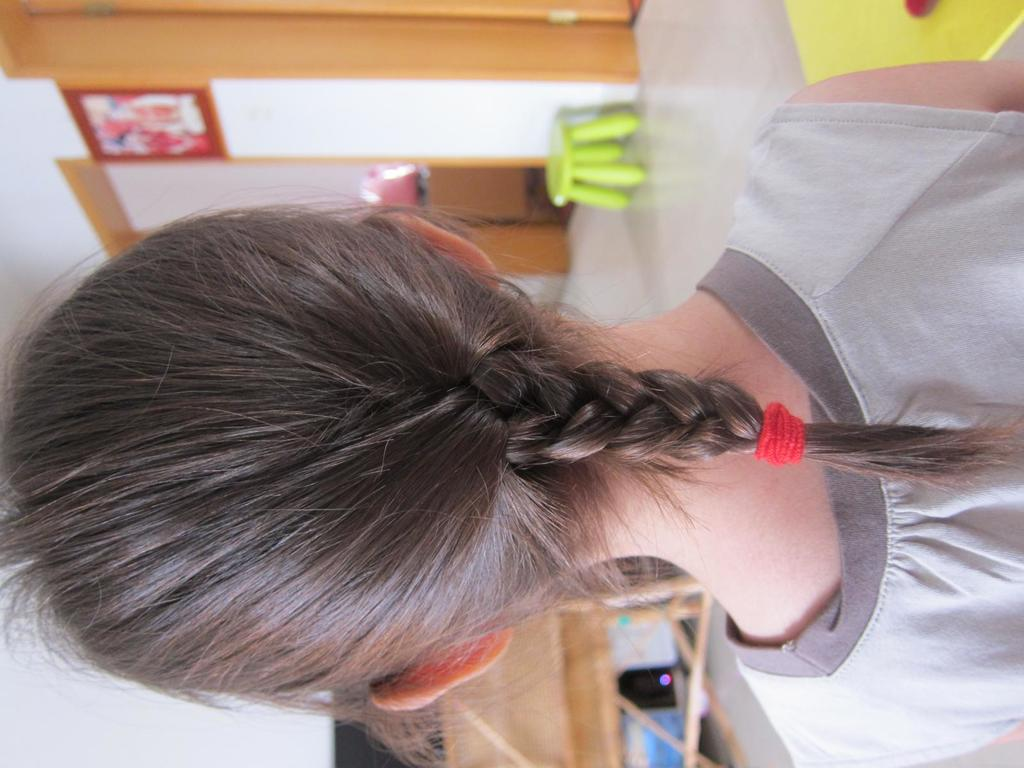Person: (0, 60, 1024, 768)
